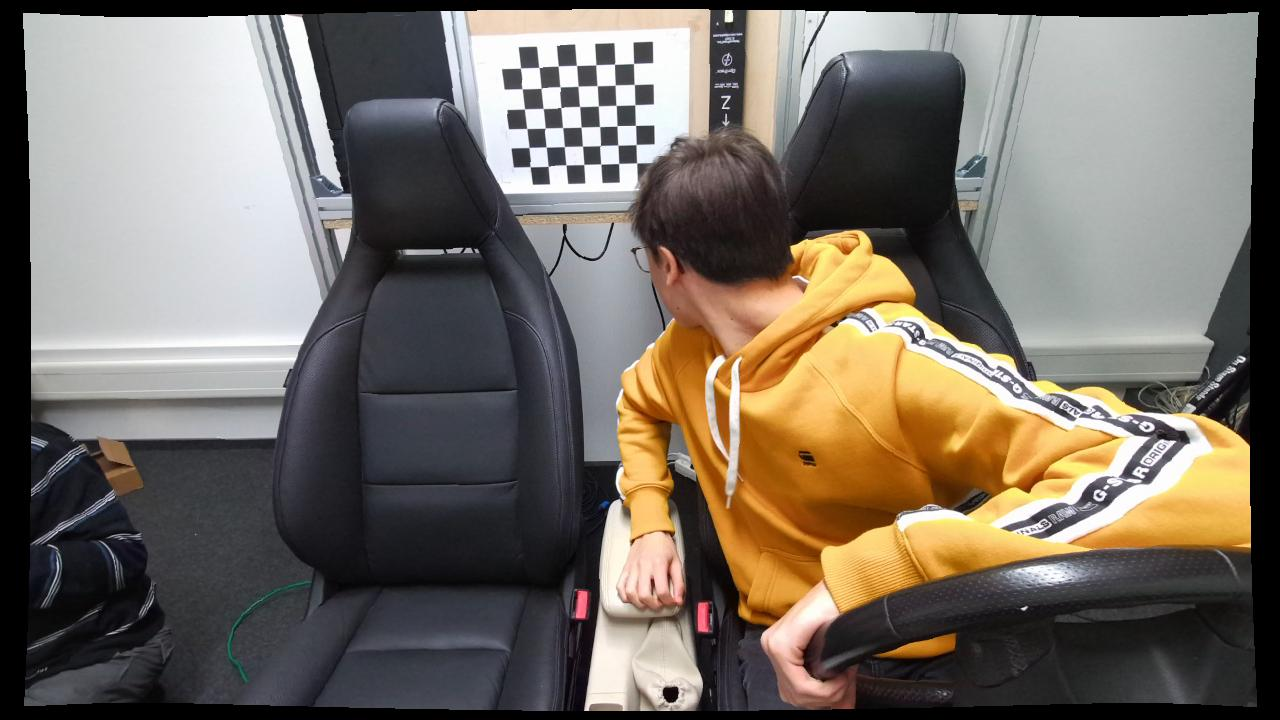Distracted: (597, 102, 946, 703)
